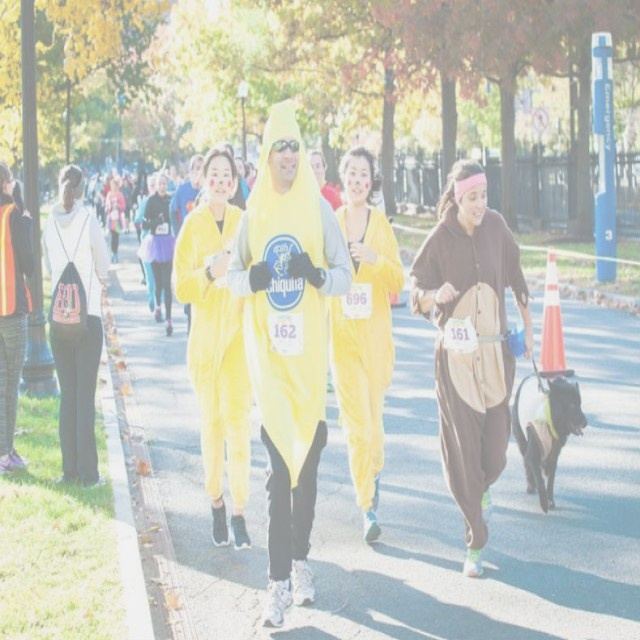pessoa: (220, 89, 356, 636), (406, 152, 536, 586), (323, 142, 408, 546), (171, 143, 254, 553), (42, 160, 114, 493), (0, 156, 38, 485), (140, 169, 179, 341), (84, 168, 146, 268), (132, 172, 165, 317), (168, 152, 205, 244), (222, 140, 262, 202), (306, 148, 344, 213), (165, 155, 190, 191)
